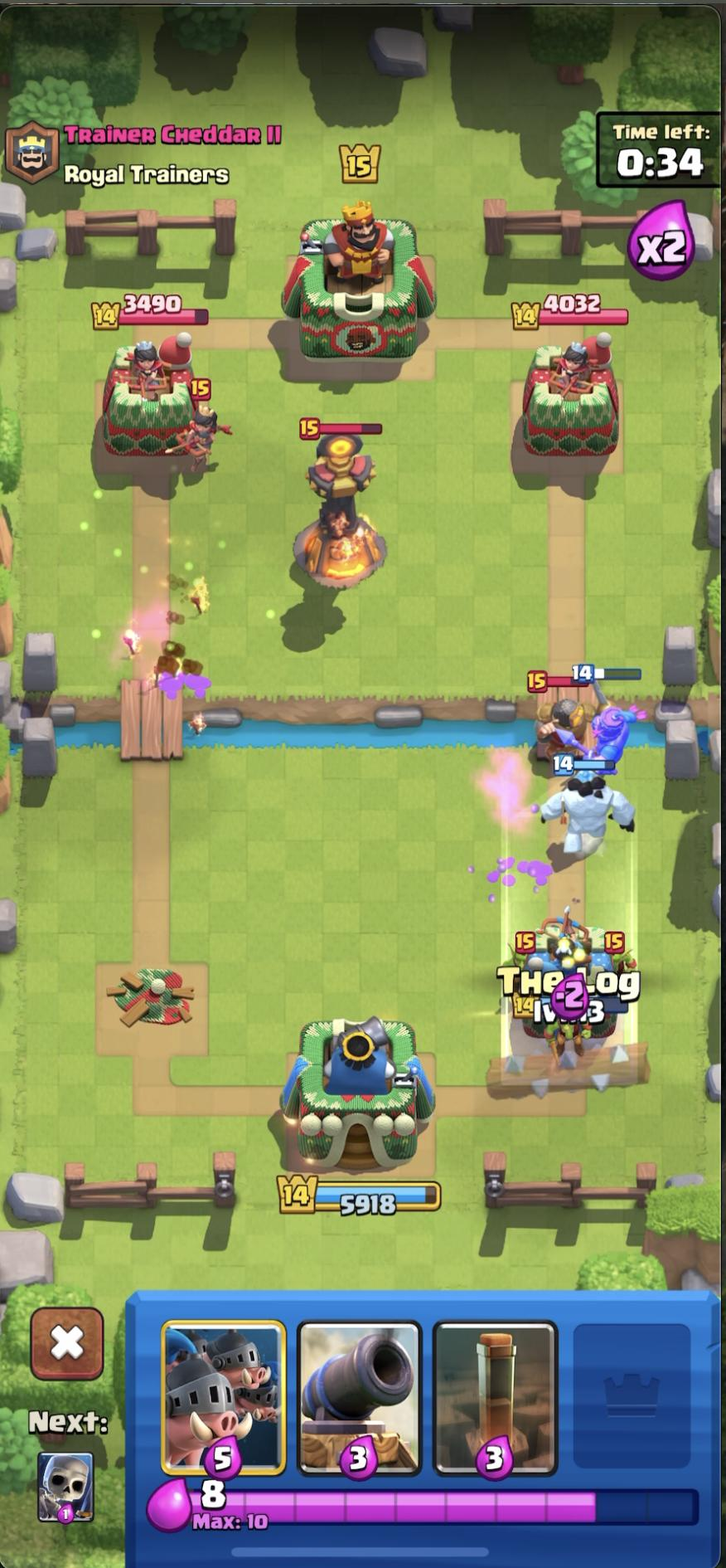card_cannon: (295, 1319, 421, 1479)
card_earthquake: (433, 1320, 559, 1481)
card_royalhogs: (161, 1320, 287, 1480)
card_skeletons: (34, 1451, 98, 1527)
